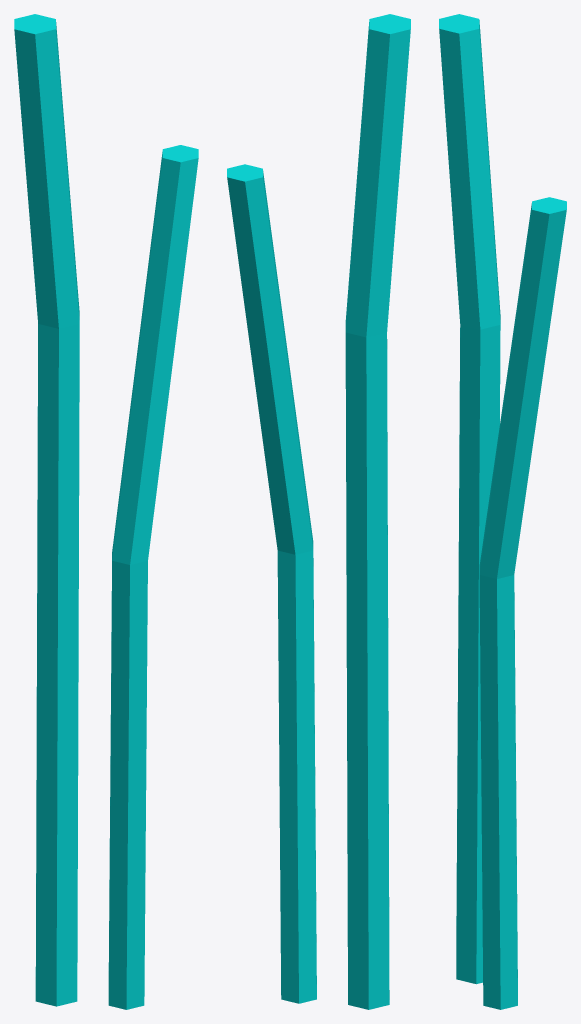
The model's file is SM_Env_Bamboo_02_Collision.fbx.
3 renders of one model, left to right at view 1: azimuth 30°, elevation 25°; view 2: azimuth 210°, elevation 25°; view 3: azimuth 330°, elevation 25°, orthographic. The views are drawn at different scales.
Visible parts, largest first — view 1: SM_Env_Bamboo_02_Collision; view 2: SM_Env_Bamboo_02_Collision; view 3: SM_Env_Bamboo_02_Collision.
Part boxes in pixels (box(x1,y1,x2,y2)): SM_Env_Bamboo_02_Collision: box(14, 14, 198, 1009); SM_Env_Bamboo_02_Collision: box(227, 14, 410, 1009); SM_Env_Bamboo_02_Collision: box(439, 14, 566, 1009).
Size of the model in its own units: 78.05 by 460 by 40.54.
